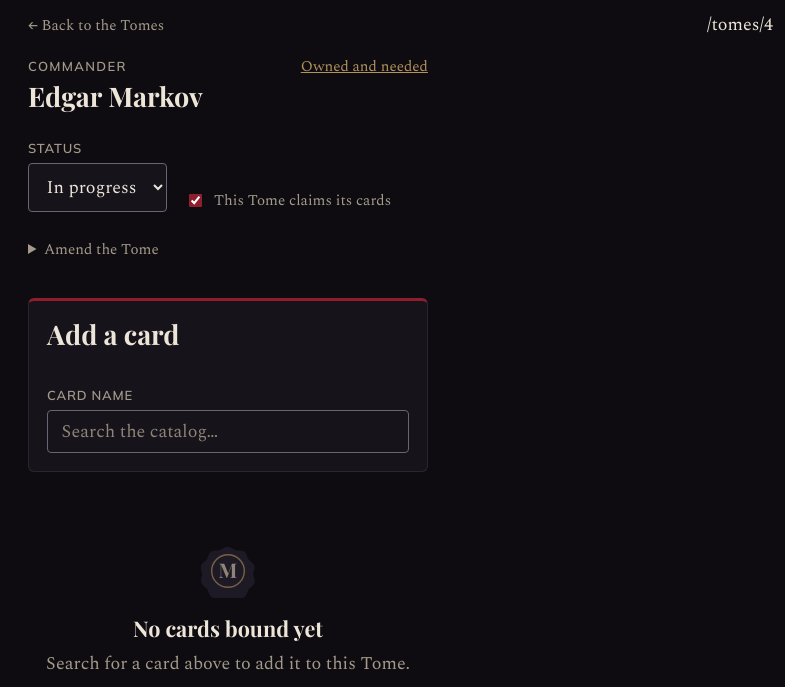
Test: TomeEditorPage › saves a status change at once
Select "Active" in the dropdown labelled "Status" at point(98, 188), box [28,163,167,212]
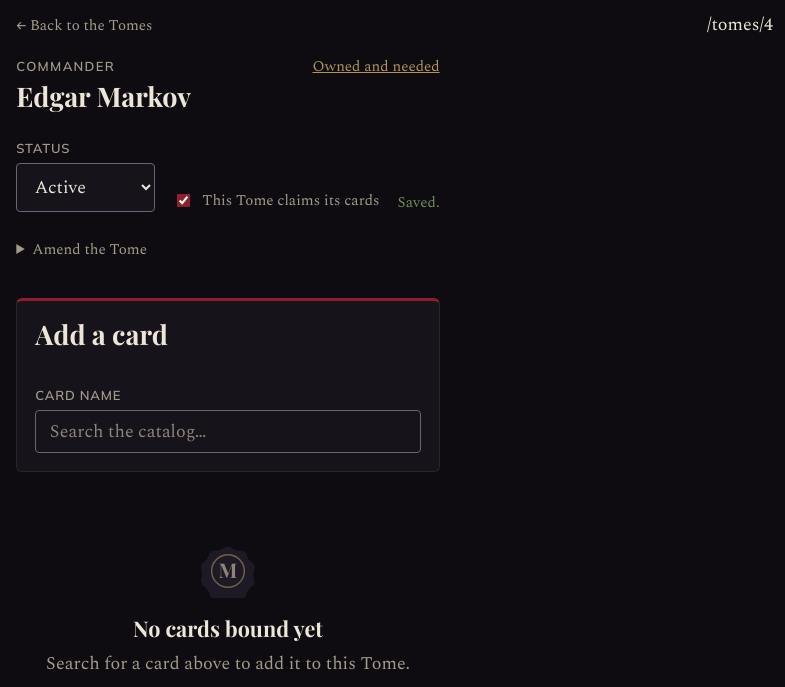
Now the text "Saved." is shown, box [398,192,440,212]
